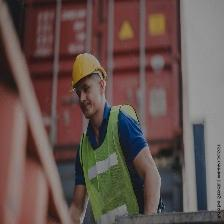Person: (67, 53, 162, 224)
helmet: (70, 54, 109, 92)
vest: (78, 105, 139, 224)
